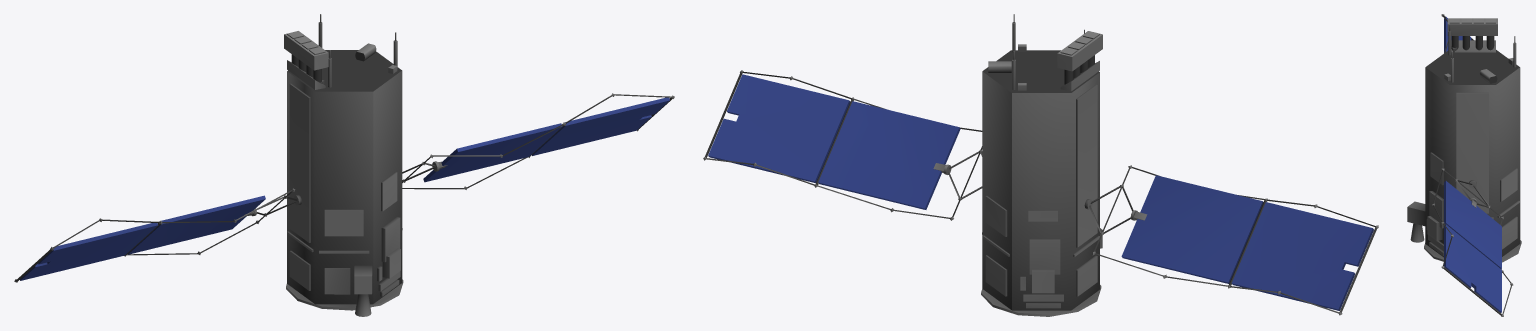
Rendered from space-satellites-satellite_v15.glb.
3 views of the same model, side by side, from view 1: azimuth 30°, elevation 25°; view 2: azimuth 150°, elevation 25°; view 3: azimuth 270°, elevation 25° (orthographic). The views are drawn at different scales.
Visible parts, largest first — view 1: Satellite_v15.001, Satellite_v15; view 2: Satellite_v15, Satellite_v15.001; view 3: Satellite_v15.001, Satellite_v15.
Boxes of the visible parts, <box> form: Satellite_v15.001: <box>14,14,674,316</box>; Satellite_v15: <box>20,97,669,280</box>; Satellite_v15: <box>708,74,1373,310</box>; Satellite_v15.001: <box>703,14,1378,316</box>; Satellite_v15.001: <box>1407,14,1521,316</box>; Satellite_v15: <box>1444,17,1501,312</box>.
Bounding box in the file's own units: 8 × 3.09 × 1.52.
